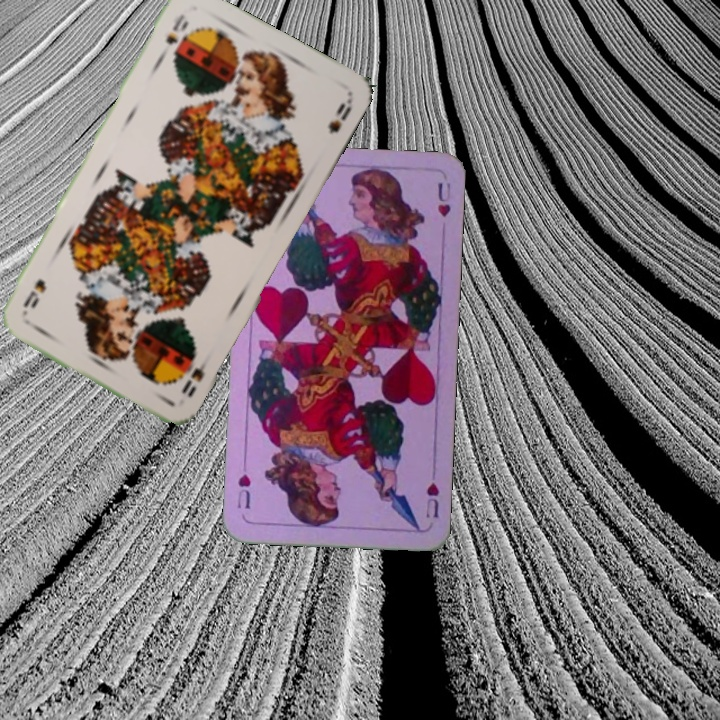HU: (421, 478, 442, 521)
SO: (177, 349, 215, 400), (155, 10, 191, 62)
